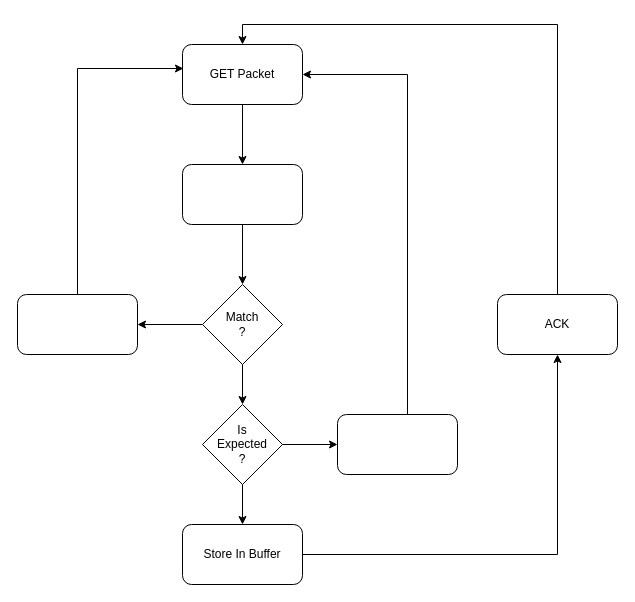
This 635x602 diagram has some shape labels left out. Here are the shapes that lost their labels. From the top down, the centre of each, then its label:
At (x=242, y=194): "Calculate CRC8".
At (x=77, y=324): "SEND retransmit request".
At (x=397, y=444): "Not ACK".
